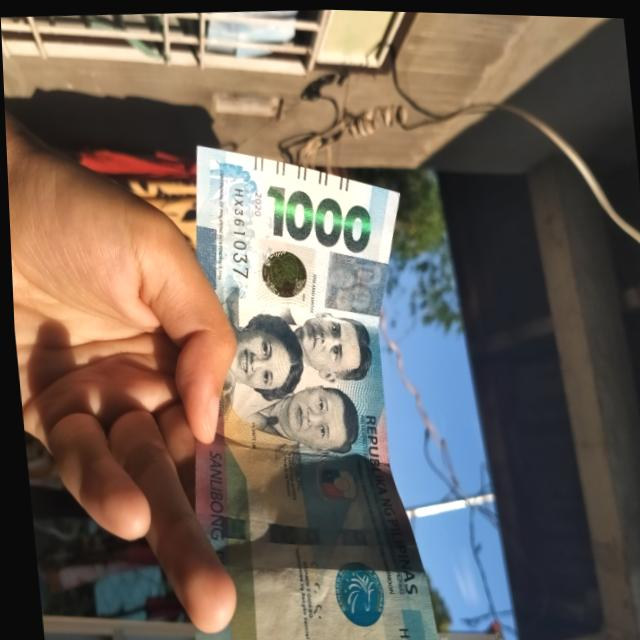concealed_value: (322, 249, 386, 314)
optically_variable_device: (253, 235, 313, 305)
security_thread: (192, 510, 411, 543)
see_through_mark: (240, 627, 265, 640)
serial_number: (222, 183, 252, 279)
value: (261, 178, 375, 257)
